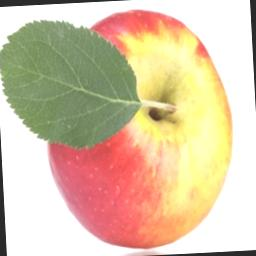Apple Ripe: (0, 5, 256, 243)
